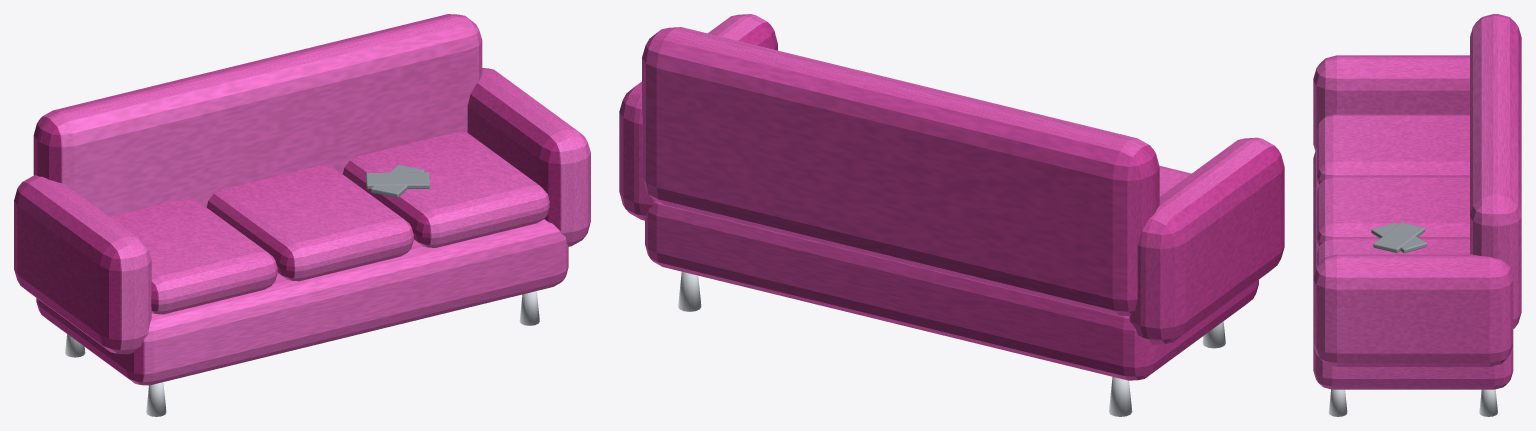
File: Furn_Couch.fbx
3 views of the same model, side by side, from view 1: azimuth 30°, elevation 25°; view 2: azimuth 150°, elevation 25°; view 3: azimuth 270°, elevation 25° (orthographic). The views are drawn at different scales.
Parts seen in each view (by area): view 1: Furn_Couch; view 2: Furn_Couch; view 3: Furn_Couch.
Part boxes in pixels (x1,y1,x2,y2): Furn_Couch: (14, 14, 590, 416); Furn_Couch: (619, 14, 1284, 416); Furn_Couch: (1313, 14, 1521, 416).
Bounding box in the file's own units: 2.22 × 1.05 × 0.885.
Materials: 3 (1 with a texture image).
